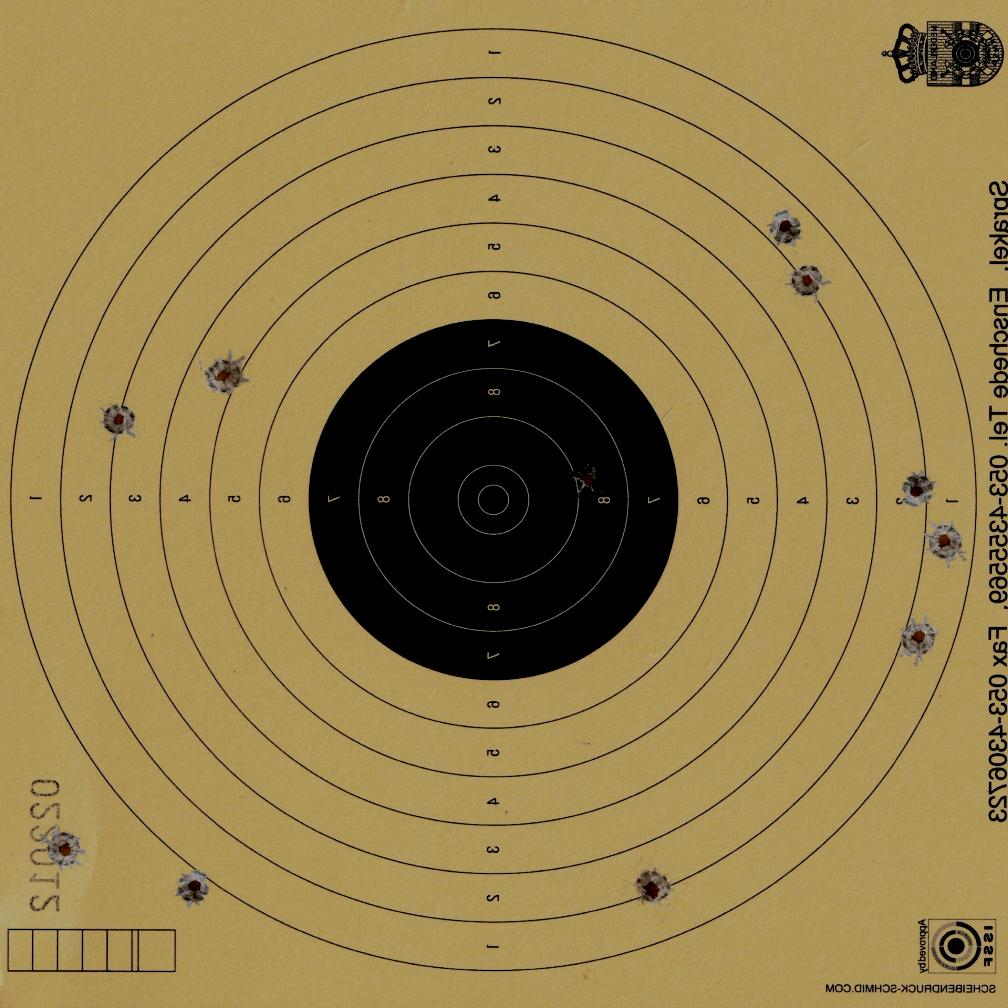0: (46, 828, 86, 870)
1: (924, 520, 968, 566), (172, 869, 215, 904)
2: (900, 619, 940, 665), (632, 868, 677, 904), (900, 471, 932, 507)
3: (766, 207, 805, 248), (96, 402, 138, 436), (790, 264, 827, 298)
5: (201, 350, 253, 399)
9: (572, 462, 607, 497)
Target: (7, 26, 980, 975)
black_contour: (309, 318, 681, 680)
